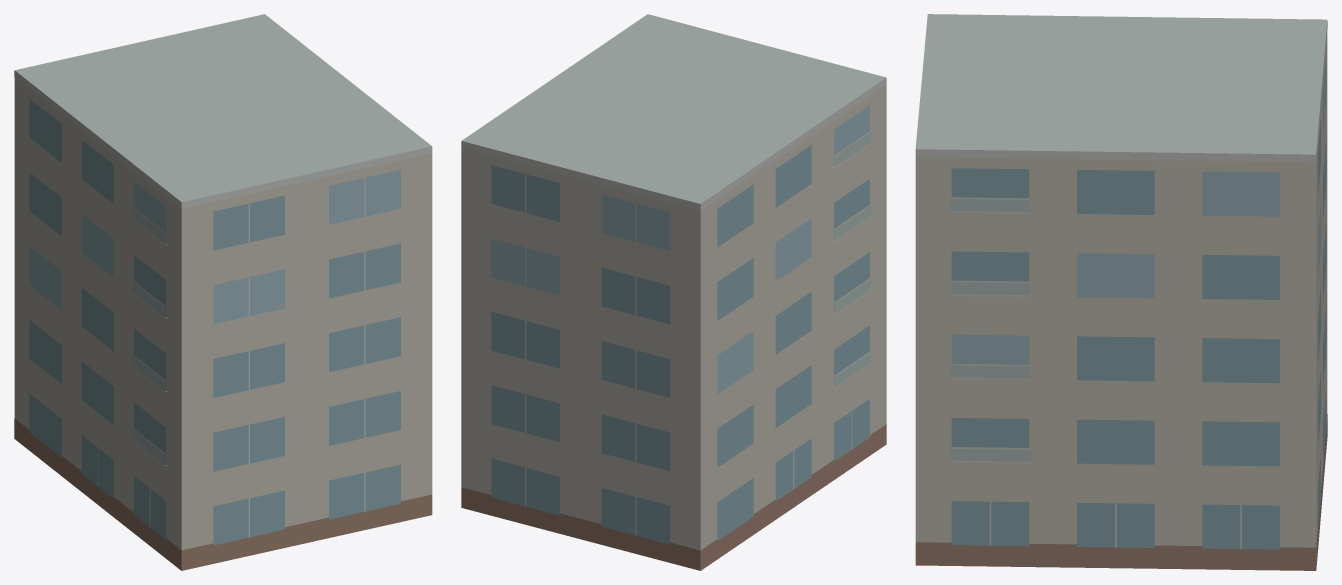
Rendered from survey-upis-32838814.glb.
3 views of the same model, side by side, from view 1: azimuth 30°, elevation 25°; view 2: azimuth 150°, elevation 25°; view 3: azimuth 270°, elevation 25° (orthographic). The views are drawn at different scales.
Visible parts, largest first — view 1: survey-upis-32838814.tmp; view 2: survey-upis-32838814.tmp; view 3: survey-upis-32838814.tmp.
Part boxes in pixels (bbox=[...]): survey-upis-32838814.tmp: bbox=[14, 14, 432, 570]; survey-upis-32838814.tmp: bbox=[461, 14, 886, 570]; survey-upis-32838814.tmp: bbox=[915, 14, 1327, 570].
Size of the model in its own units: 9.55 by 13.16 by 11.81.
